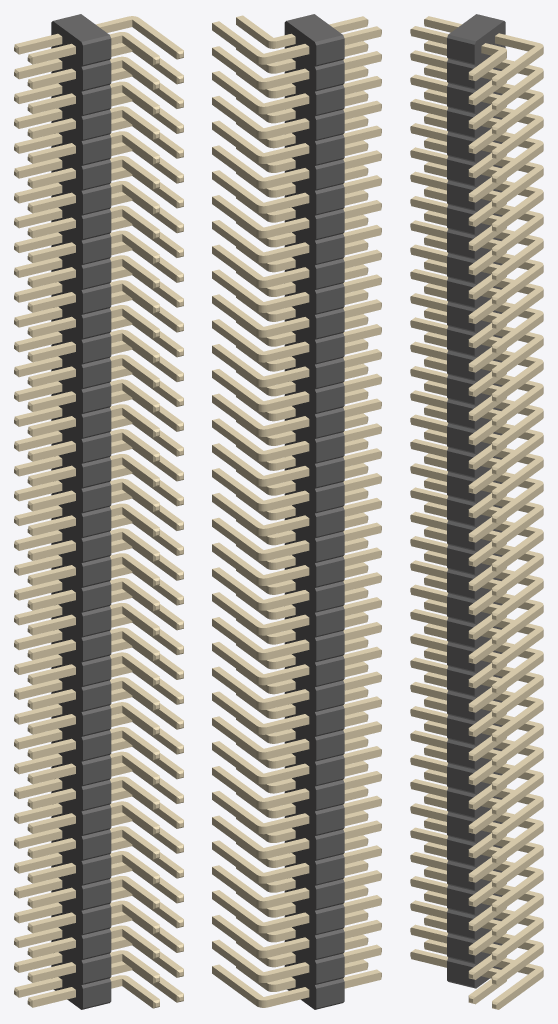
File: PinHeader_2x39_P1.00mm_Horizontal.glb
3 views of the same model, side by side, from view 1: azimuth 30°, elevation 25°; view 2: azimuth 210°, elevation 25°; view 3: azimuth 330°, elevation 25° (orthographic). The views are drawn at different scales.
Parts seen in each view (by area): view 1: Shape_IndexedFaceSet.004, Shape_IndexedFaceSet.001, Shape_IndexedFaceSet.016, Shape_IndexedFaceSet.046, Shape_IndexedFaceSet.058, Shape_IndexedFaceSet.082, Shape_IndexedFaceSet.088, Shape_IndexedFaceSet.226, Shape_IndexedFaceSet.022, Shape_IndexedFaceSet.118, Shape_IndexedFaceSet.130, Shape_IndexedFaceSet.148 (+30 smaller); view 2: Shape_IndexedFaceSet.003, Shape_IndexedFaceSet.001, Shape_IndexedFaceSet.013, Shape_IndexedFaceSet.025, Shape_IndexedFaceSet.037, Shape_IndexedFaceSet.055, Shape_IndexedFaceSet.079, Shape_IndexedFaceSet.097, Shape_IndexedFaceSet.121, Shape_IndexedFaceSet.139, Shape_IndexedFaceSet.163, Shape_IndexedFaceSet.175 (+68 smaller); view 3: Shape_IndexedFaceSet.003, Shape_IndexedFaceSet.001, Shape_IndexedFaceSet.002, Shape_IndexedFaceSet.545, Shape_IndexedFaceSet.112, Shape_IndexedFaceSet.148, Shape_IndexedFaceSet.190, Shape_IndexedFaceSet.046, Shape_IndexedFaceSet.076, Shape_IndexedFaceSet.142, Shape_IndexedFaceSet.154, Shape_IndexedFaceSet.226 (+108 smaller).
Boxes of the visible parts, <box> form: Shape_IndexedFaceSet.004: <box>51,21,82,1009</box>; Shape_IndexedFaceSet.001: <box>53,14,109,41</box>; Shape_IndexedFaceSet.016: <box>83,88,111,114</box>; Shape_IndexedFaceSet.046: <box>83,212,111,238</box>; Shape_IndexedFaceSet.058: <box>83,262,111,288</box>; Shape_IndexedFaceSet.082: <box>83,361,111,387</box>; Shape_IndexedFaceSet.088: <box>83,386,111,412</box>; Shape_IndexedFaceSet.226: <box>83,957,111,983</box>; Shape_IndexedFaceSet.022: <box>83,113,111,139</box>; Shape_IndexedFaceSet.118: <box>83,510,111,536</box>; Shape_IndexedFaceSet.130: <box>83,560,111,586</box>; Shape_IndexedFaceSet.148: <box>83,634,111,660</box>; Shape_IndexedFaceSet.003: <box>284,21,316,1009</box>; Shape_IndexedFaceSet.001: <box>286,14,342,41</box>; Shape_IndexedFaceSet.013: <box>316,63,344,89</box>; Shape_IndexedFaceSet.025: <box>316,113,344,139</box>; Shape_IndexedFaceSet.037: <box>316,162,344,189</box>; Shape_IndexedFaceSet.055: <box>316,237,344,263</box>; Shape_IndexedFaceSet.079: <box>316,336,344,362</box>; Shape_IndexedFaceSet.097: <box>316,411,344,437</box>; Shape_IndexedFaceSet.121: <box>316,510,344,536</box>; Shape_IndexedFaceSet.139: <box>316,584,344,611</box>; Shape_IndexedFaceSet.163: <box>316,684,344,710</box>; Shape_IndexedFaceSet.175: <box>316,733,344,760</box>; Shape_IndexedFaceSet.003: <box>474,21,505,988</box>; Shape_IndexedFaceSet.001: <box>448,14,503,41</box>; Shape_IndexedFaceSet.002: <box>447,38,474,63</box>; Shape_IndexedFaceSet.545: <box>492,33,543,79</box>; Shape_IndexedFaceSet.112: <box>447,475,474,501</box>; Shape_IndexedFaceSet.148: <box>447,621,474,646</box>; Shape_IndexedFaceSet.190: <box>447,791,474,816</box>; Shape_IndexedFaceSet.046: <box>447,208,474,233</box>; Shape_IndexedFaceSet.076: <box>447,329,474,355</box>; Shape_IndexedFaceSet.142: <box>447,597,474,622</box>; Shape_IndexedFaceSet.154: <box>447,645,474,671</box>; Shape_IndexedFaceSet.226: <box>447,937,474,962</box>.
Size of the model in its own units: 2.03 by 15.35 by 1.62.
